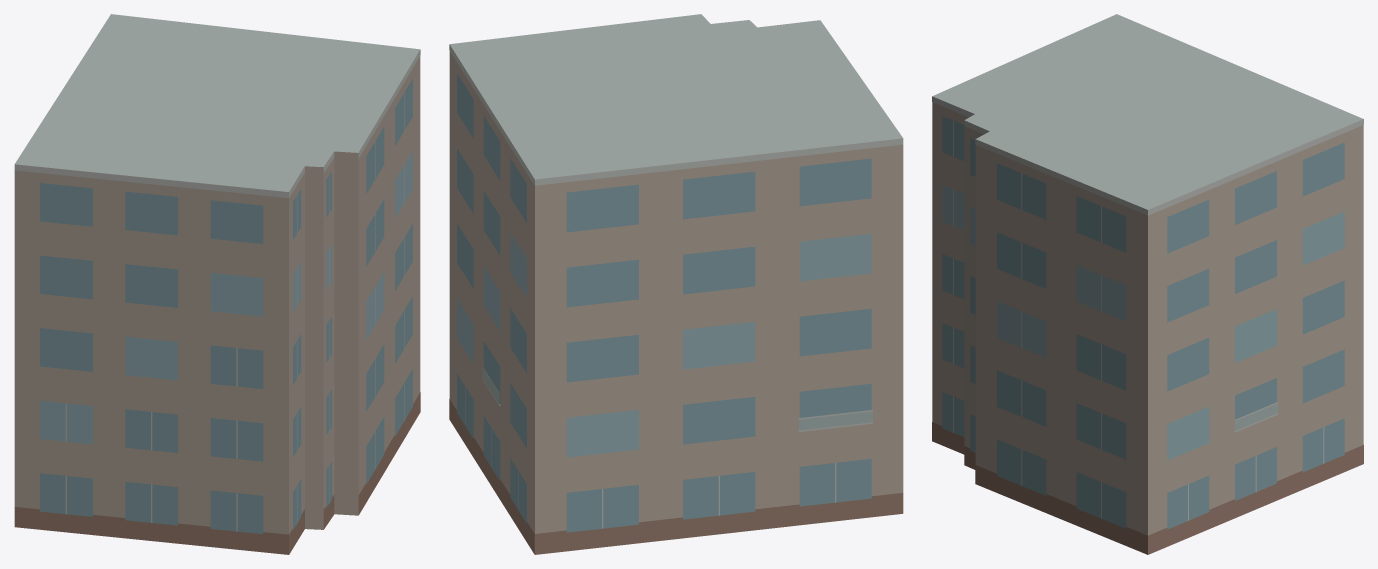
The model's file is survey-upis-32920808.glb.
3 views of the same model, side by side, from view 1: azimuth 30°, elevation 25°; view 2: azimuth 150°, elevation 25°; view 3: azimuth 270°, elevation 25° (orthographic). The views are drawn at different scales.
Visible parts, largest first — view 1: survey-upis-32920808.tmp; view 2: survey-upis-32920808.tmp; view 3: survey-upis-32920808.tmp.
Part boxes in pixels (x1=…): survey-upis-32920808.tmp: x1=14, y1=14, x2=420, y2=554; survey-upis-32920808.tmp: x1=449, y1=14, x2=903, y2=554; survey-upis-32920808.tmp: x1=932, y1=14, x2=1363, y2=554.
Bounding box in the file's own units: 17.92 × 14.7 × 16.68.
